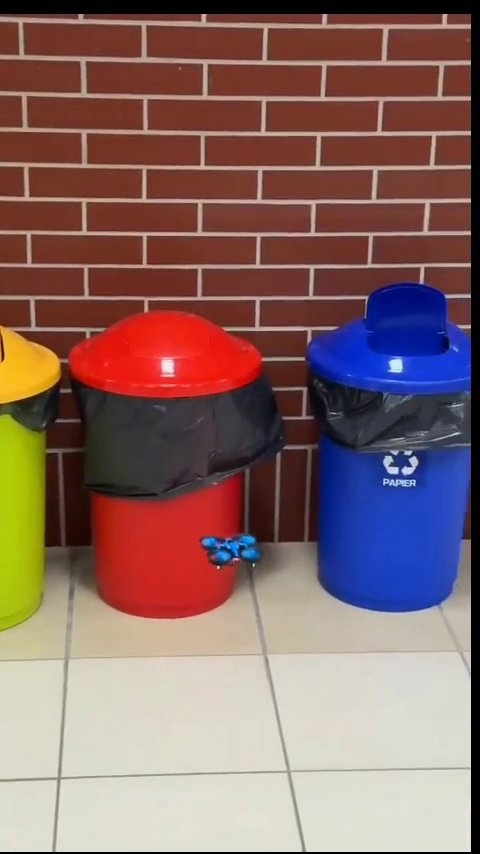drone: (198, 531, 266, 571)
